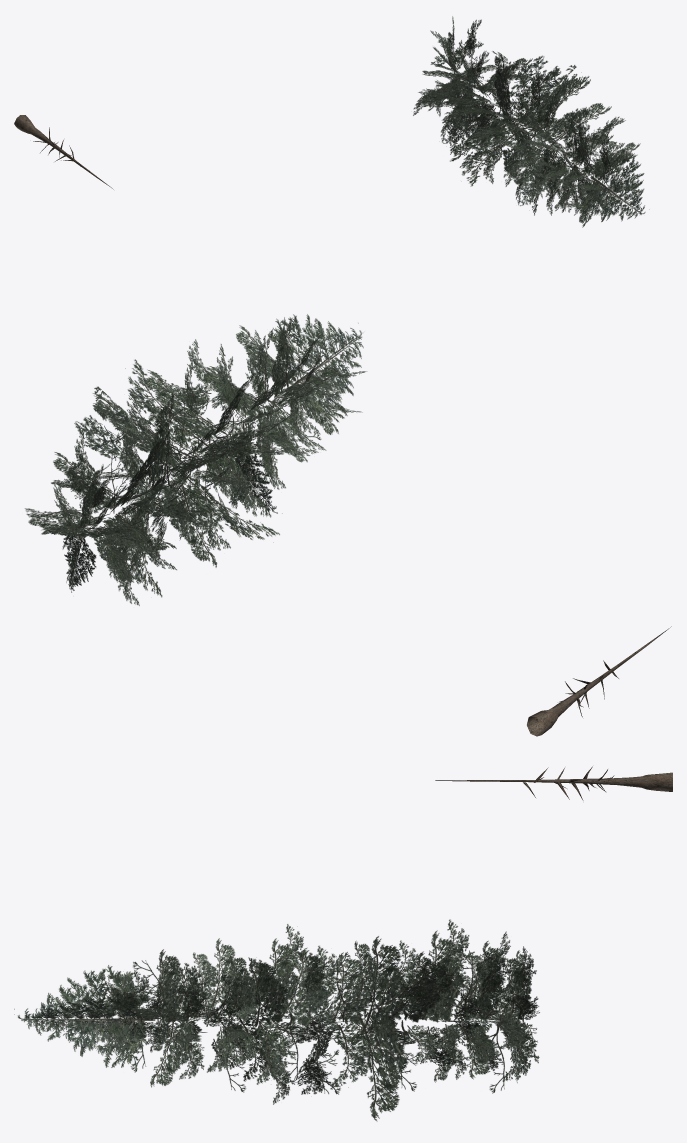
The model's file is tree1.glb.
3 views of the same model, one above another, from view 1: azimuth 30°, elevation 25°; view 2: azimuth 150°, elevation 25°; view 3: azimuth 270°, elevation 25° (orthographic). The views are drawn at different scales.
Visible parts, largest first — view 1: Tree_Branches_01_Tree_Branches_01_0.001; view 2: Tree_Branches_01_Tree_Branches_01_0.001; view 3: Tree_Branches_01_Tree_Branches_01_0.001.
Boxes of the visible parts, bbox=[...] form: Tree_Branches_01_Tree_Branches_01_0.001: bbox=[14, 16, 649, 227]; Tree_Branches_01_Tree_Branches_01_0.001: bbox=[25, 314, 671, 736]; Tree_Branches_01_Tree_Branches_01_0.001: bbox=[14, 766, 672, 1121].
Size of the model in its own units: 26.29 by 7.49 by 25.18.
2 materials, 2 textured.
